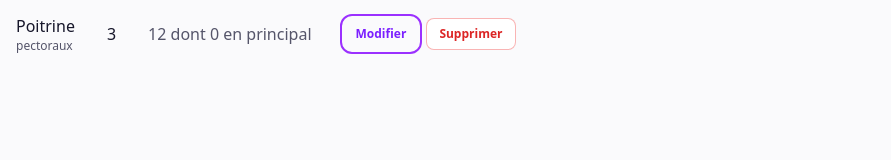
Test: CategoryRow › rouvrir reprend ce que la LISTE affiche, pas une saisie périmée
Earlier steps of the test are not shown.
Click the button "Modifier": (381, 34) [344,18,418,50]
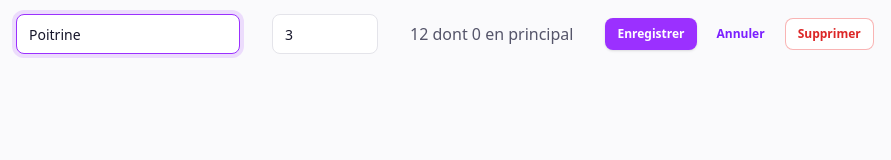
Result: the field named "Nom de Poitrine" holds "Poitrine" at [16,14,240,54]
